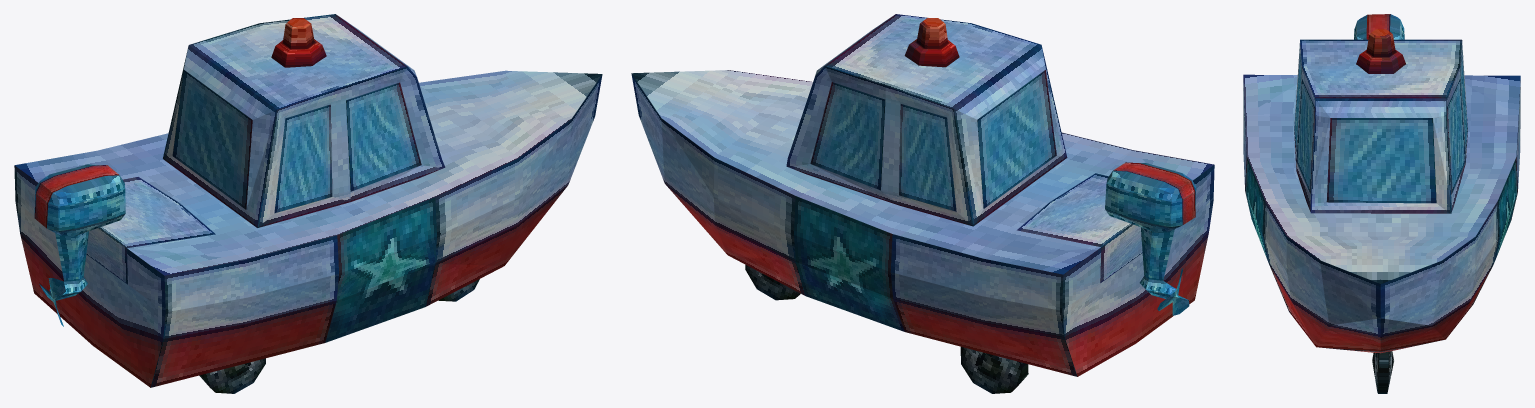
Rendered from car1.glb.
3 renders of one model, left to right at view 1: azimuth 30°, elevation 25°; view 2: azimuth 150°, elevation 25°; view 3: azimuth 270°, elevation 25°, orthographic. The views are drawn at different scales.
Parts seen in each view (by area): view 1: mesh_0; view 2: mesh_0; view 3: mesh_0.
Boxes of the visible parts, bbox=[...] form: mesh_0: bbox=[14, 14, 602, 393]; mesh_0: bbox=[631, 14, 1214, 393]; mesh_0: bbox=[1243, 14, 1520, 393].
Size of the model in its own units: 15.82 by 8.52 by 7.38.
1 material, 1 textured.
